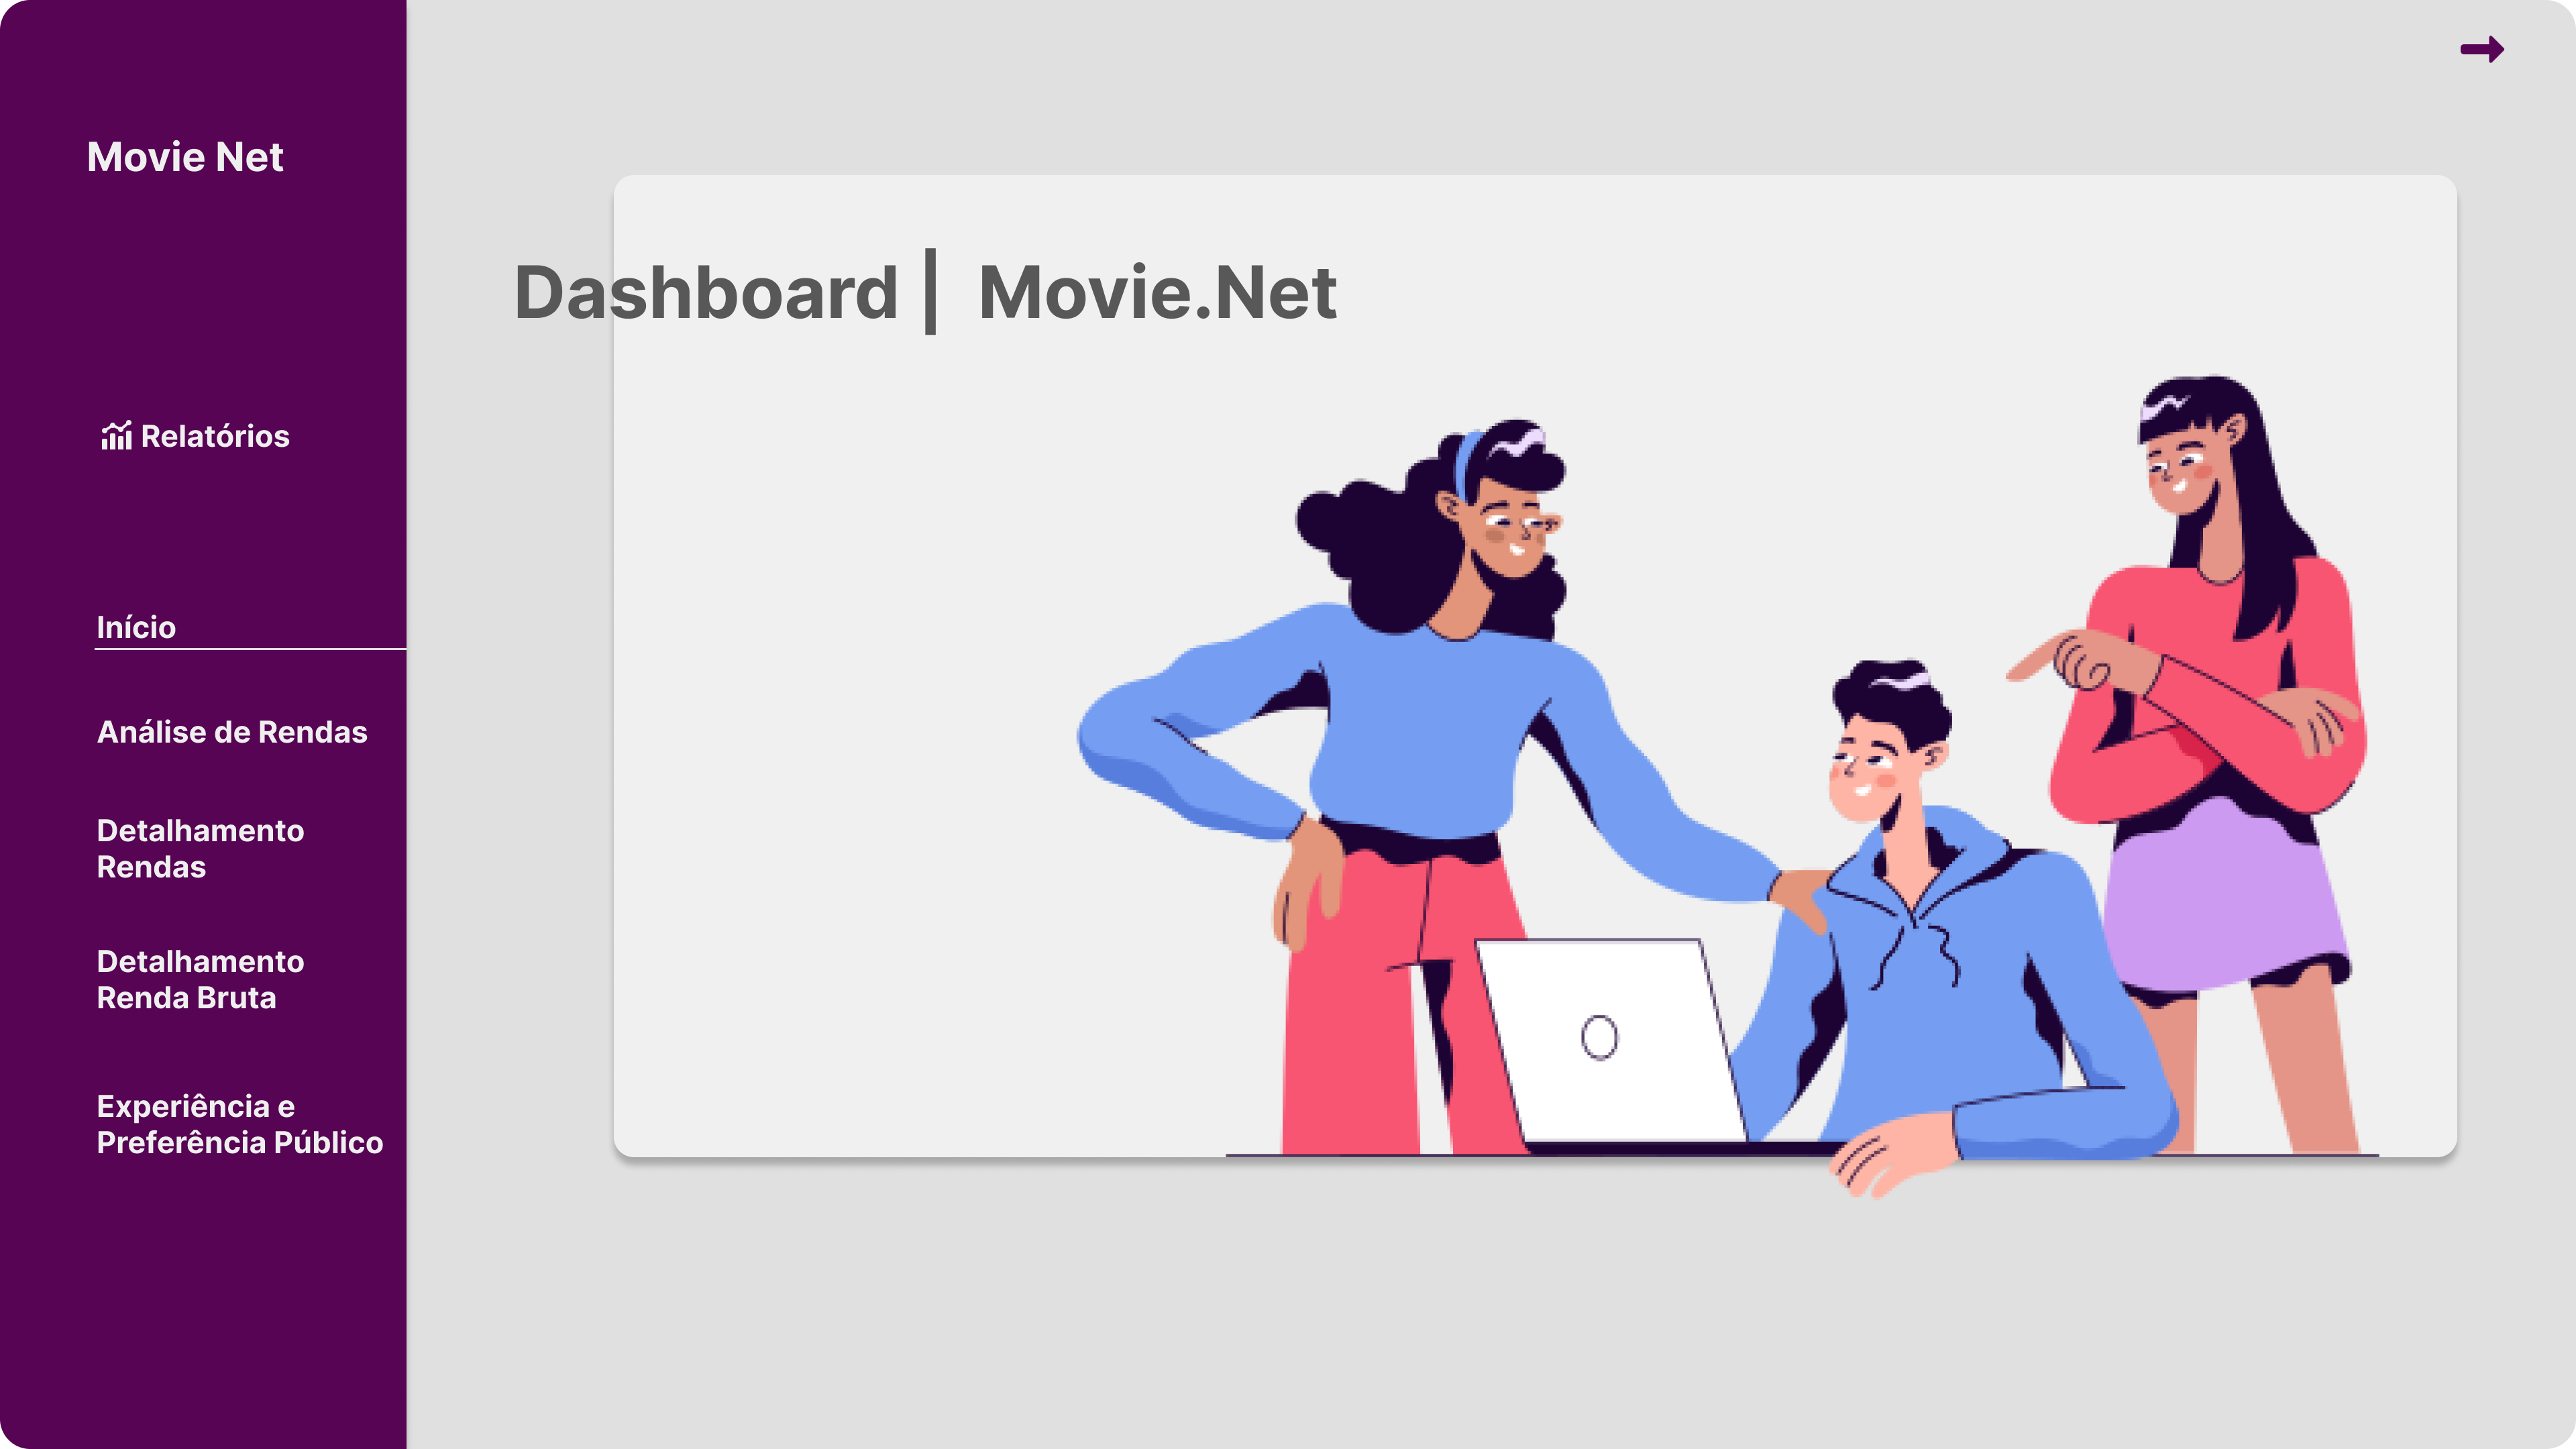

What the dashboard file says about the page in this screenshot:
{"tool":"powerbi","page":{"name":"Capa","canvas":[1280,720],"ordinal":0},"visuals":[{"type":"actionButton","box":[1211.5,11.9,39.3,32.1],"z":0},{"type":"actionButton","box":[40.5,348.7,150,28.6],"z":1000},{"type":"actionButton","box":[40.5,401.1,150,45.2],"z":2000},{"type":"actionButton","box":[44,471.3,150,45.2],"z":4000}]}

Visuals, with their boxes on the page's 1280x720 design canvas (x1, y1, x2, y2). These are canvas units, not pixel positions in the 2576x1449 screenshot, which may show the page scaled, cropped or inside an application window:
actionButton: rect(1212, 12, 1251, 44)
actionButton: rect(40, 349, 190, 377)
actionButton: rect(40, 401, 190, 446)
actionButton: rect(44, 471, 194, 516)
